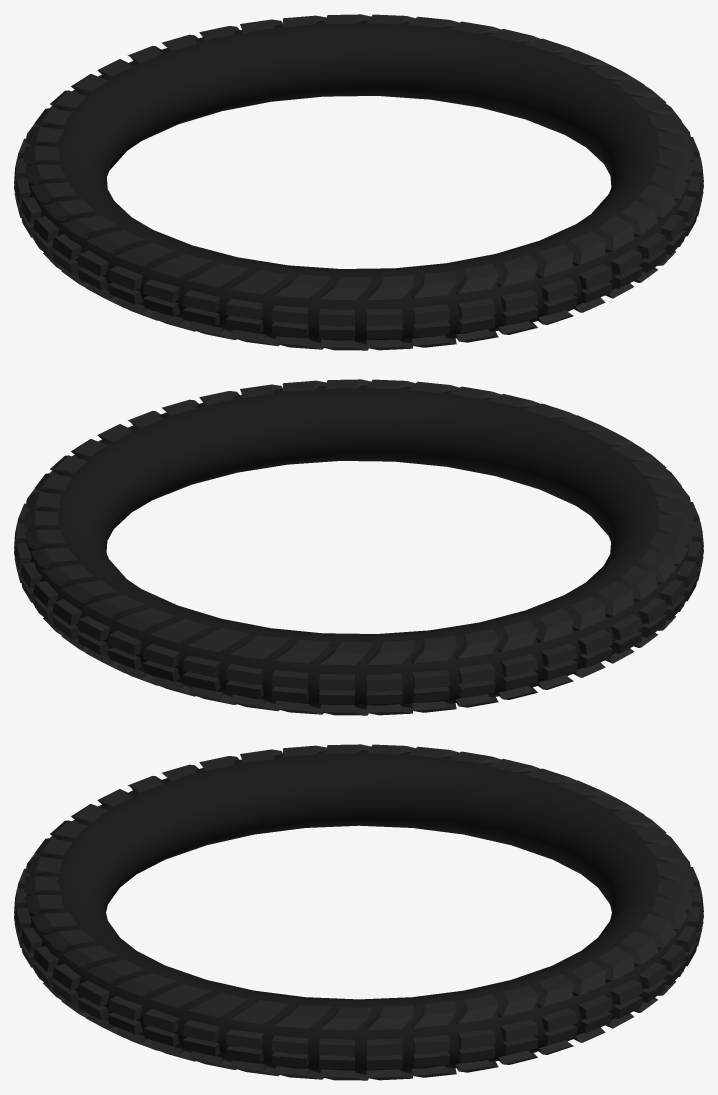
File: LunTai_ZiXingChe_1X9_on.FBX
3 views of the same model, one above another, from view 1: azimuth 30°, elevation 25°; view 2: azimuth 150°, elevation 25°; view 3: azimuth 270°, elevation 25° (orthographic).
Parts seen in each view (by area): view 1: Box001; view 2: Box001; view 3: Box001.
Part boxes in pixels (left/top/right/bottom): Box001: left=14, top=14, right=703, bottom=350; Box001: left=14, top=379, right=703, bottom=715; Box001: left=14, top=744, right=703, bottom=1080.
Bounding box in the file's own units: 9.29 × 0.9946 × 9.29.
